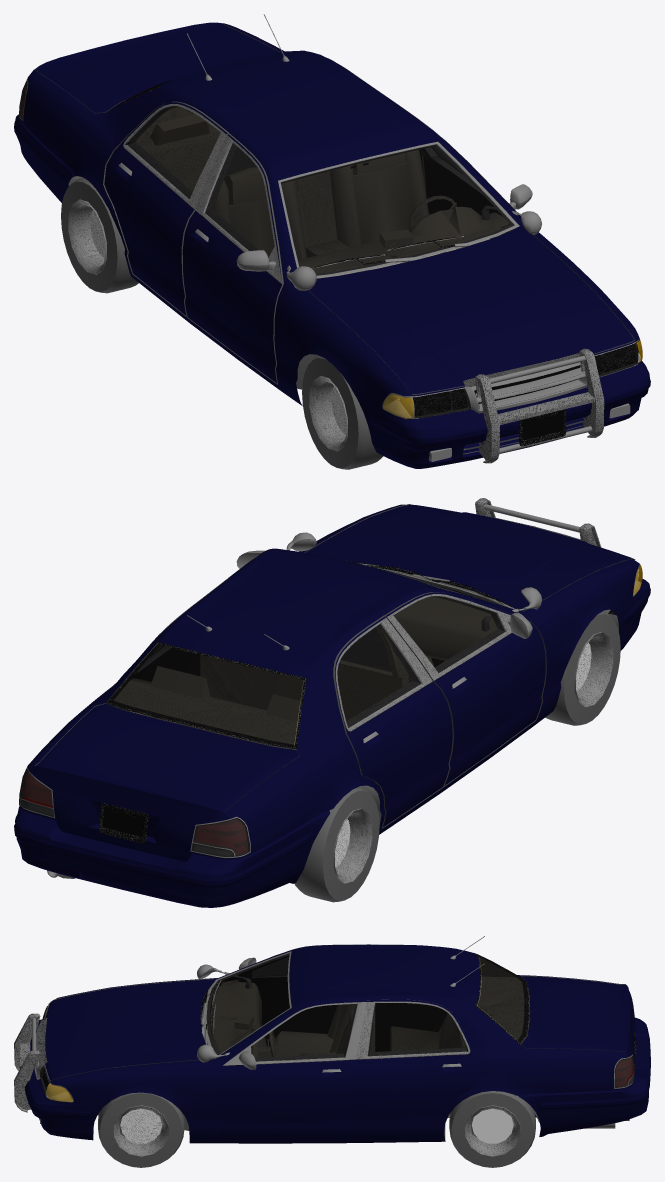
Rendered from car2.fbx.
3 renders of one model, top to bottom at view 1: azimuth 30°, elevation 25°; view 2: azimuth 150°, elevation 25°; view 3: azimuth 270°, elevation 25°, orthographic. The views are drawn at different scales.
Visible parts, largest first — view 1: Material3.025, Material3.046, Material3.044, Material2.043, Material3.048, Material3.059, Material2.022, Material3.063, Material2.042, Material2.041, Material2.026, Material3.012 (+14 smaller); view 2: Material3.025, Material3.048, Material3.044, Material3.046, Material2.043, Material3.059, Material3.063, Material2.042, Material2.041, Material3.002, Material2.022, Material3.023 (+12 smaller); view 3: Material3.025, Material3.052, Material3.046, Material3.044, Material3.055, Material2.043, Material3.048, Material2.040, Material3.017, Material3.007, Material2.022, Material3.057 (+12 smaller).
Part boxes in pixels (x1,y1,x2,y2): Material3.025: [14, 23, 650, 468]; Material3.046: [308, 225, 634, 395]; Material3.044: [128, 107, 508, 282]; Material2.043: [19, 79, 638, 418]; Material3.048: [35, 22, 279, 112]; Material3.059: [182, 134, 281, 383]; Material2.022: [19, 14, 640, 461]; Material3.063: [104, 102, 227, 315]; Material2.042: [105, 105, 222, 313]; Material2.041: [198, 137, 281, 350]; Material2.026: [475, 348, 604, 463]; Material3.012: [302, 355, 383, 469]; Material3.025: [14, 504, 650, 907]; Material3.048: [34, 704, 298, 823]; Material3.044: [114, 586, 511, 749]; Material3.046: [305, 504, 632, 611]; Material2.043: [19, 566, 507, 857]; Material3.059: [385, 592, 545, 785]; Material3.063: [335, 616, 452, 828]; Material2.042: [337, 619, 432, 825]; Material2.041: [390, 594, 546, 764]; Material3.002: [294, 787, 379, 902]; Material2.022: [19, 530, 641, 878]; Material3.023: [99, 561, 641, 843]; Material3.025: [25, 944, 650, 1143]; Material3.052: [216, 1000, 366, 1139]; Material3.046: [45, 979, 216, 1081]; Material3.044: [207, 957, 529, 1072]; Material3.055: [350, 1000, 476, 1138]; Material2.043: [40, 953, 634, 1096]; Material3.048: [521, 976, 633, 1055]; Material2.040: [357, 1002, 470, 1067]; Material3.017: [449, 1091, 535, 1167]; Material3.007: [98, 1092, 184, 1167]; Material2.022: [34, 936, 636, 1139]; Material3.057: [223, 956, 336, 1045].
Bounding box in the file's own units: 243 × 190 × 630.
